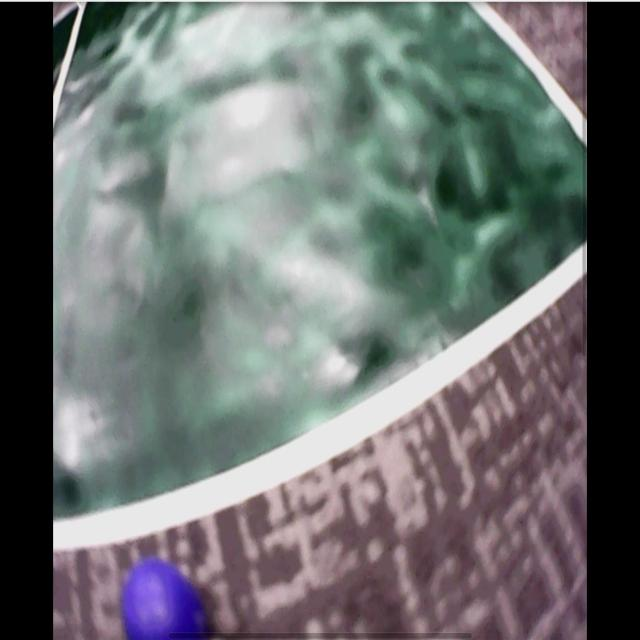ball: (124, 562, 200, 640)
